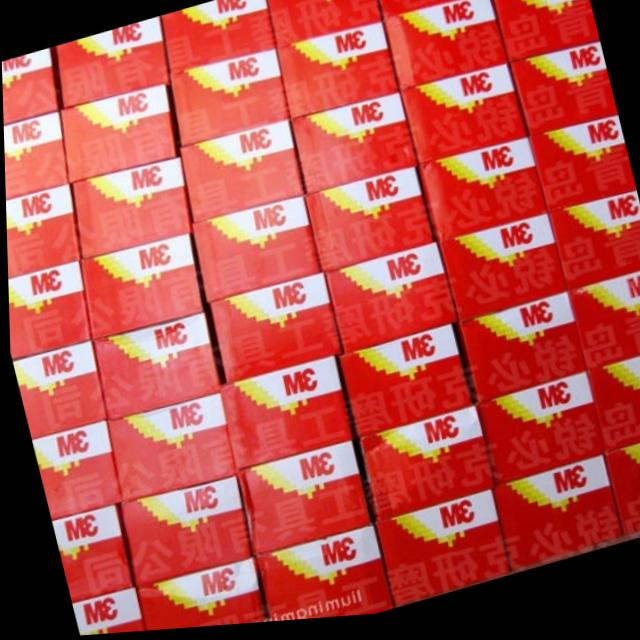box: (353, 412, 490, 529), (234, 444, 371, 559), (371, 498, 506, 610), (116, 478, 249, 590), (471, 380, 601, 494), (217, 360, 349, 472), (336, 331, 468, 443), (488, 466, 620, 578), (208, 277, 339, 389), (324, 249, 457, 359), (436, 221, 566, 330), (454, 301, 584, 410), (90, 315, 218, 424), (104, 394, 232, 503), (189, 199, 319, 304), (303, 173, 434, 277), (415, 146, 545, 247), (78, 236, 202, 341), (252, 530, 389, 625), (398, 70, 528, 170), (290, 97, 415, 200), (178, 125, 305, 225), (68, 160, 192, 261), (381, 0, 507, 95), (274, 27, 397, 122), (167, 52, 287, 149), (59, 88, 176, 183), (506, 50, 617, 146), (54, 18, 168, 111), (527, 124, 635, 219), (132, 559, 264, 633), (160, 0, 277, 80), (546, 201, 640, 299), (11, 342, 103, 437), (30, 423, 117, 518), (7, 261, 89, 359), (49, 506, 129, 603), (493, 0, 599, 70), (566, 281, 640, 380), (5, 183, 80, 279), (267, 0, 383, 50), (3, 111, 67, 199), (586, 363, 640, 463), (1, 48, 59, 125), (600, 451, 640, 549), (69, 590, 141, 636), (375, 0, 489, 25)
